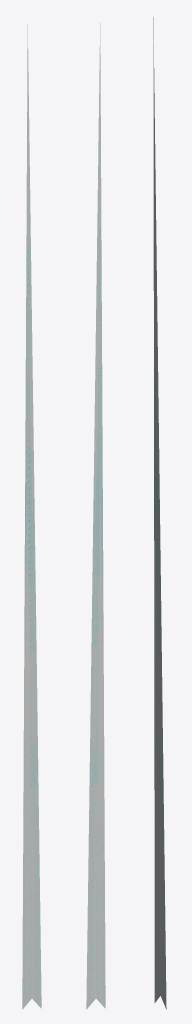
The model's file is 西庸城堡668.dae.
3 views of the same model, side by side, from view 1: azimuth 30°, elevation 25°; view 2: azimuth 210°, elevation 25°; view 3: azimuth 330°, elevation 25° (orthographic).
Parts seen in each view (by area): view 1: SketchUp; view 2: SketchUp; view 3: SketchUp.
Part boxes in pixels (bbox=[...]): SketchUp: bbox=[22, 24, 41, 1009]; SketchUp: bbox=[86, 23, 105, 1009]; SketchUp: bbox=[153, 17, 166, 1009].
Size of the model in its own units: 4.55 by 1.91 by 279.
